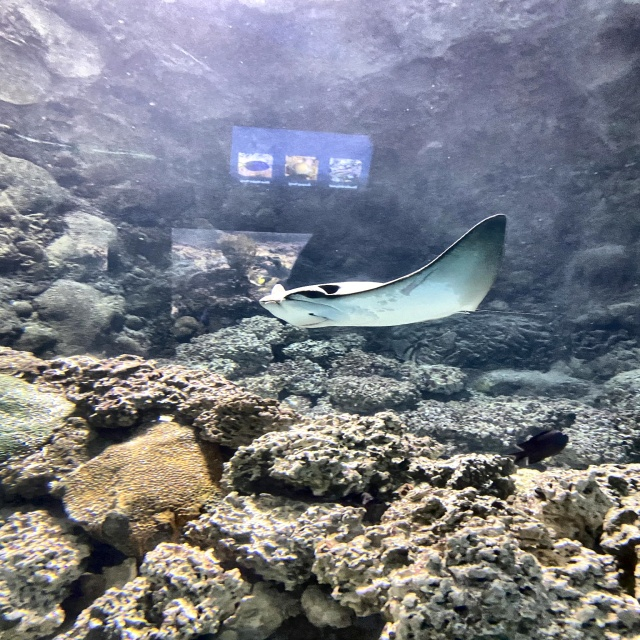fish: (512, 429, 570, 466)
stingray: (260, 212, 507, 329)
